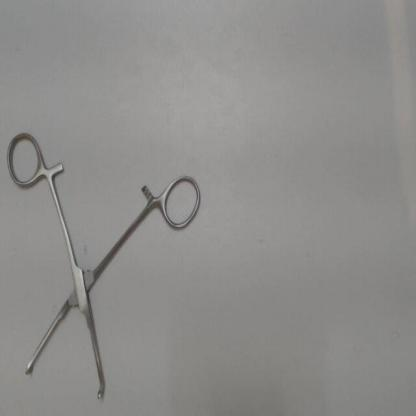Allis Tissue Forceps: (1, 123, 208, 409)
